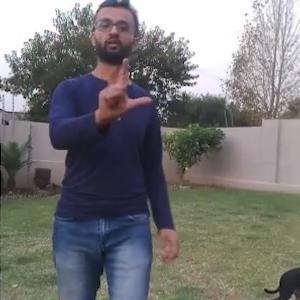land_hand: (90, 57, 155, 122)
